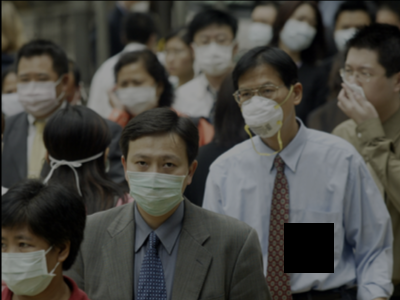with_mask: (124, 148, 189, 217), (2, 231, 58, 295), (237, 80, 294, 135), (16, 67, 63, 116), (192, 30, 234, 78), (115, 74, 160, 116), (280, 10, 318, 52), (331, 18, 369, 53), (247, 13, 274, 47), (2, 84, 22, 117)
without_mask: (340, 59, 394, 111), (164, 44, 192, 75)
